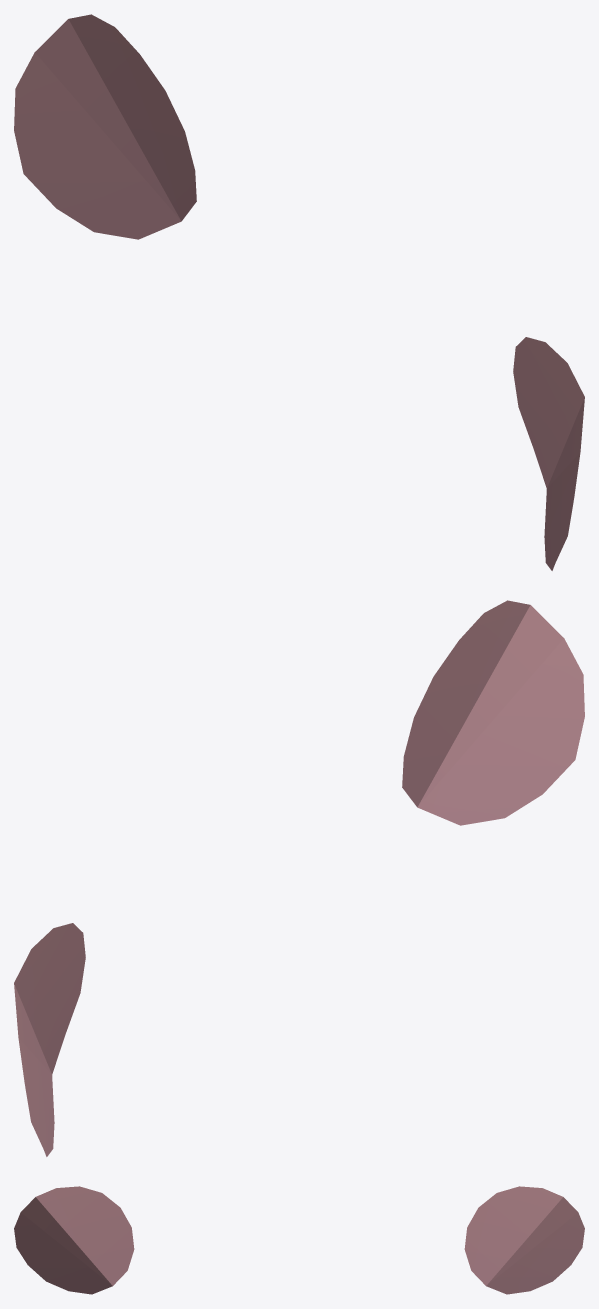
The model's file is ROSY CHEEKS.fbx.
3 views of the same model, one above another, from view 1: azimuth 30°, elevation 25°; view 2: azimuth 150°, elevation 25°; view 3: azimuth 270°, elevation 25° (orthographic). The views are drawn at different scales.
Parts seen in each view (by area): view 1: ROSY CHEEKS; view 2: ROSY CHEEKS; view 3: ROSY CHEEKS.
Part boxes in pixels (x1,y1,x2,y2): ROSY CHEEKS: (14,14,584,570); ROSY CHEEKS: (14,600,584,1156); ROSY CHEEKS: (14,1186,584,1294).
Bounding box in the file's own units: 1.34 × 3.58 × 17.23.
